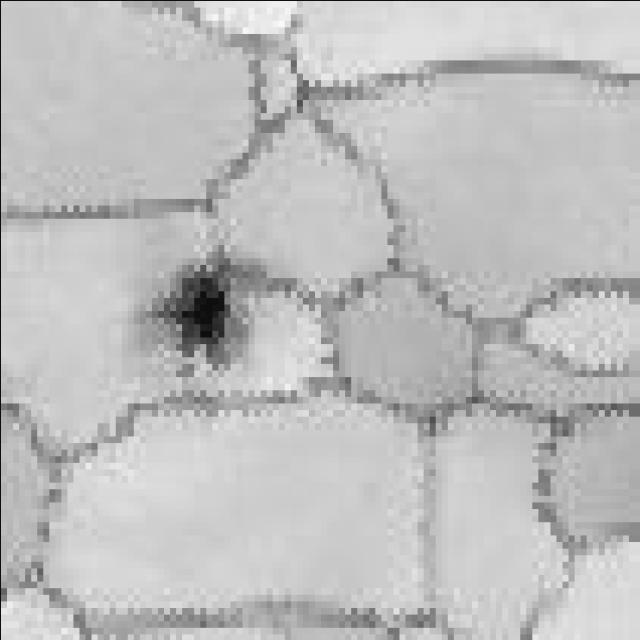good_void: (139, 237, 253, 382)
